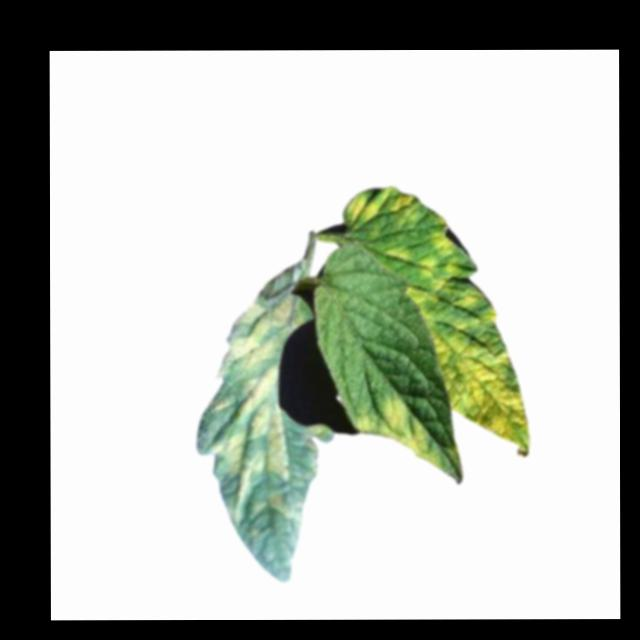Leaf_Mold: (196, 269, 301, 525), (431, 331, 535, 447), (357, 396, 442, 471), (406, 254, 455, 306), (455, 293, 500, 331), (341, 189, 380, 229), (389, 190, 425, 231), (434, 226, 462, 254)
